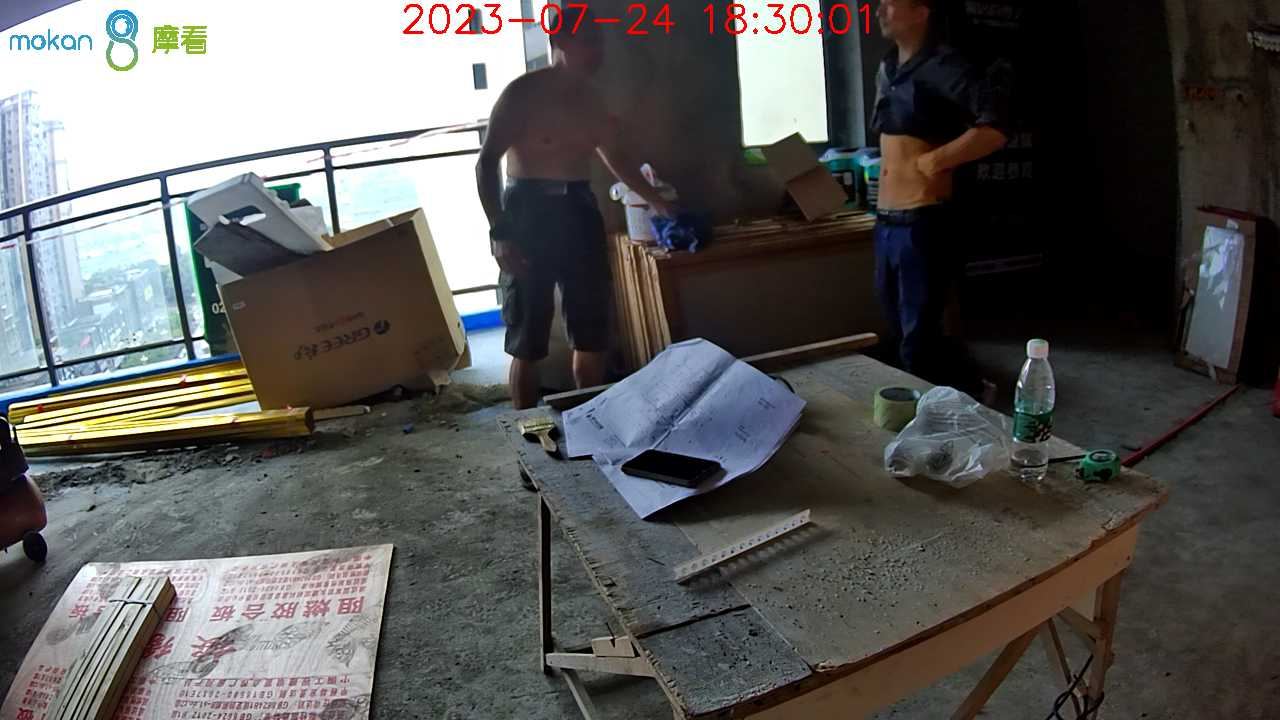people: (507, 15, 666, 414), (864, 2, 1003, 384)
window: (5, 2, 521, 394), (745, 2, 822, 144)
